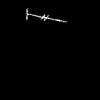treble_crochet: (26, 11, 63, 21)
